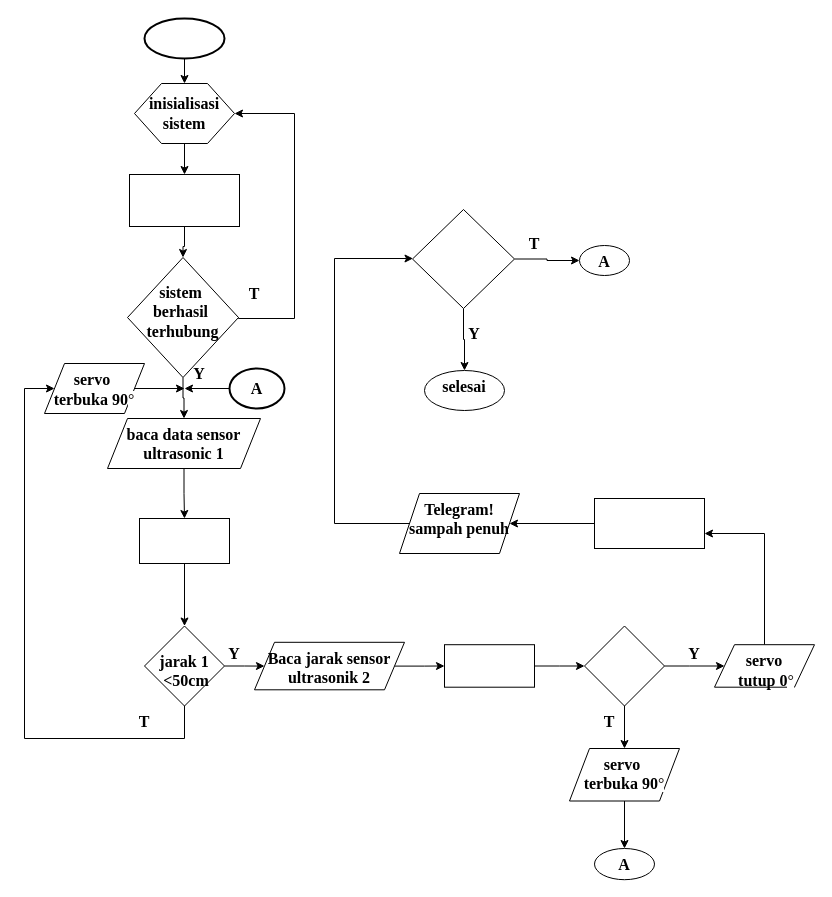
Some shapes in this 832 by 897 pixel diagram are drawn without their labels. The centre of each missing label's shape, as x and y in pixels:
jarak 2 <4 cm: [624,665]
kirim pesan telegram: [649,523]
proses data jarak: [184,541]
Proses jarak: [489,665]
sistem dimatikan: [463,258]
start: [184,38]
tes koneksi jaringan: [184,200]
